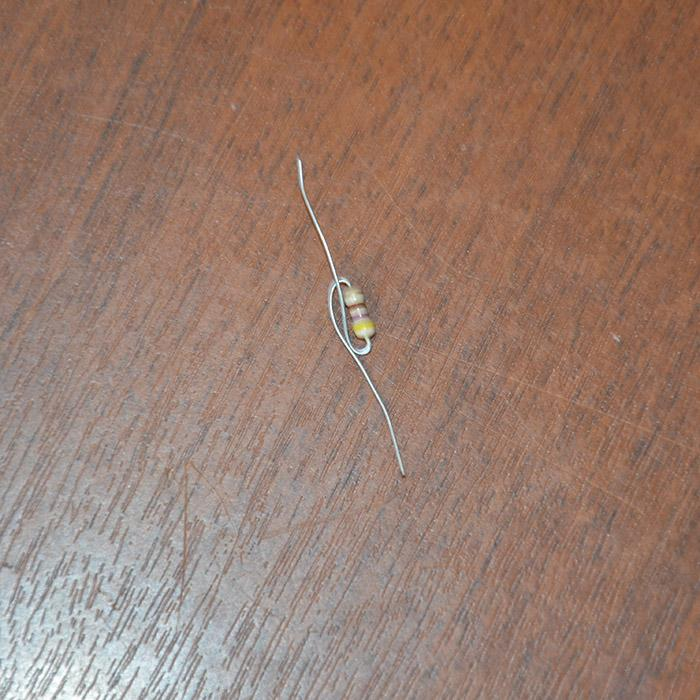resistor: (338, 281, 374, 340)
